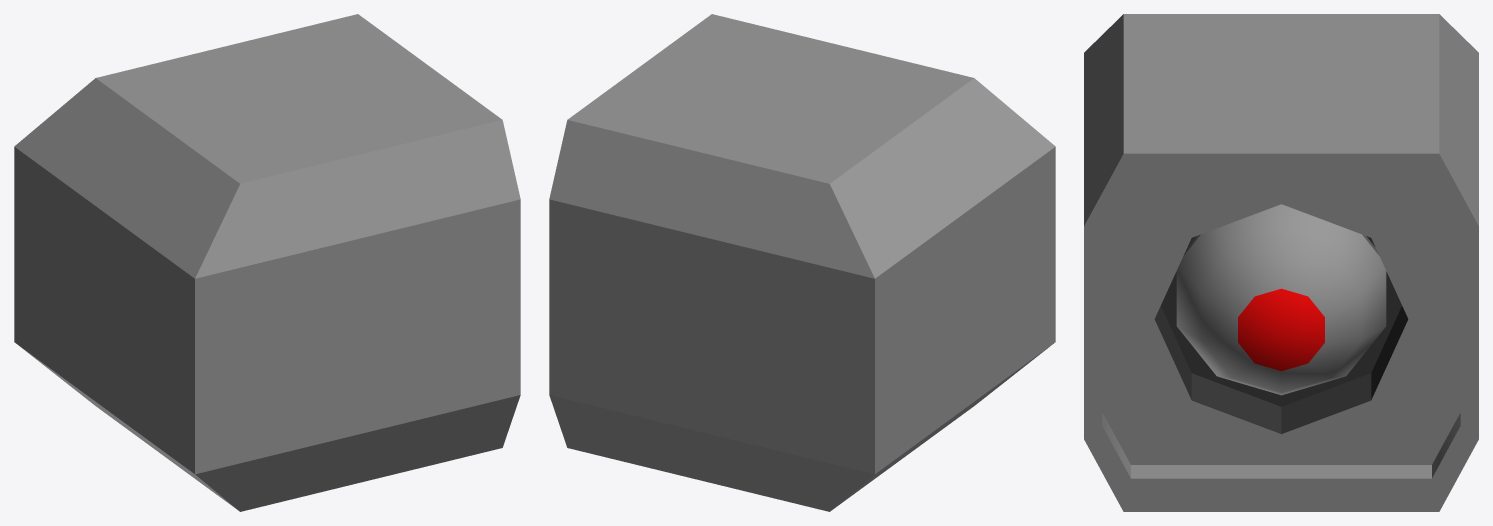
File: RocketLauncherSmall.fbx
3 views of the same model, side by side, from view 1: azimuth 30°, elevation 25°; view 2: azimuth 150°, elevation 25°; view 3: azimuth 270°, elevation 25° (orthographic). The views are drawn at different scales.
Parts seen in each view (by area): view 1: RocketLauncherSmall; view 2: RocketLauncherSmall; view 3: RocketLauncherSmall.
Boxes of the visible parts, <box> form: RocketLauncherSmall: <box>14,14,520,511</box>; RocketLauncherSmall: <box>549,14,1055,511</box>; RocketLauncherSmall: <box>1084,14,1478,511</box>.
Size of the model in its own units: 16.37 by 15.57 by 15.55.
